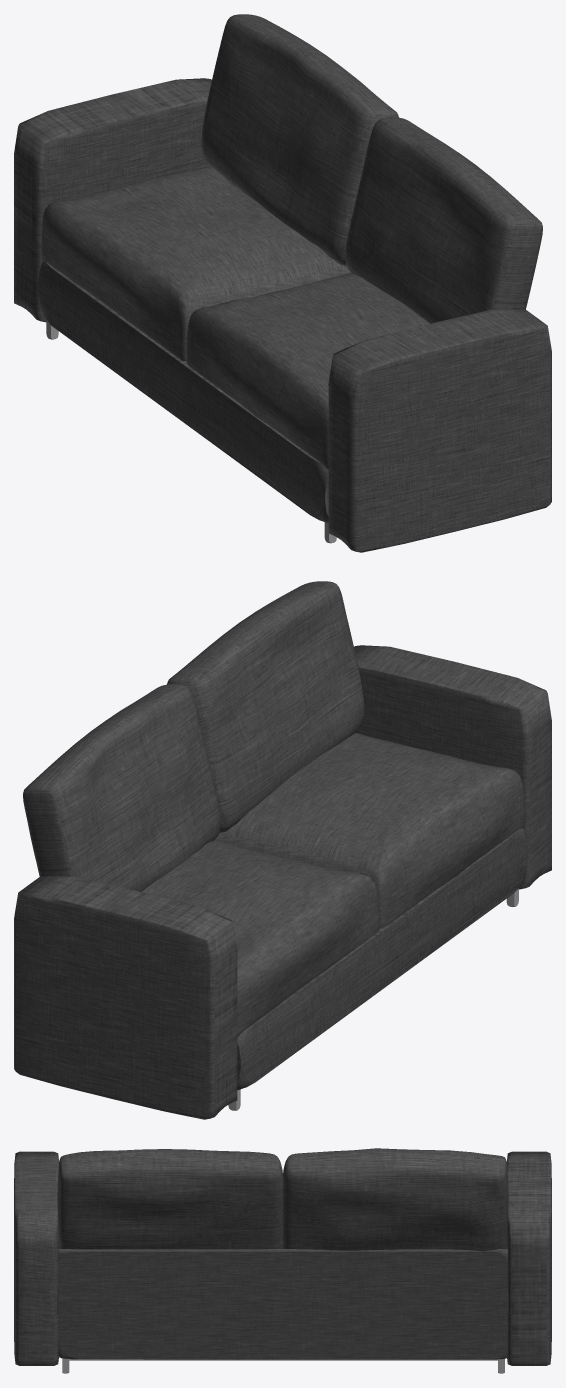
The model's file is fabric_loveseat.gltf.
3 views of the same model, one above another, from view 1: azimuth 30°, elevation 25°; view 2: azimuth 150°, elevation 25°; view 3: azimuth 270°, elevation 25° (orthographic). The views are drawn at different scales.
Visible parts, largest first — view 1: SM_Koltuk_0; view 2: SM_Koltuk_0; view 3: SM_Koltuk_0.
Part boxes in pixels (x1=…): SM_Koltuk_0: x1=14, y1=14, x2=551, y2=552; SM_Koltuk_0: x1=14, y1=581, x2=551, y2=1119; SM_Koltuk_0: x1=14, y1=1148, x2=551, y2=1373.
Bounding box in the file's own units: 0.9361 × 1.1 × 2.38.
Materials: 1 (1 with a texture image).
